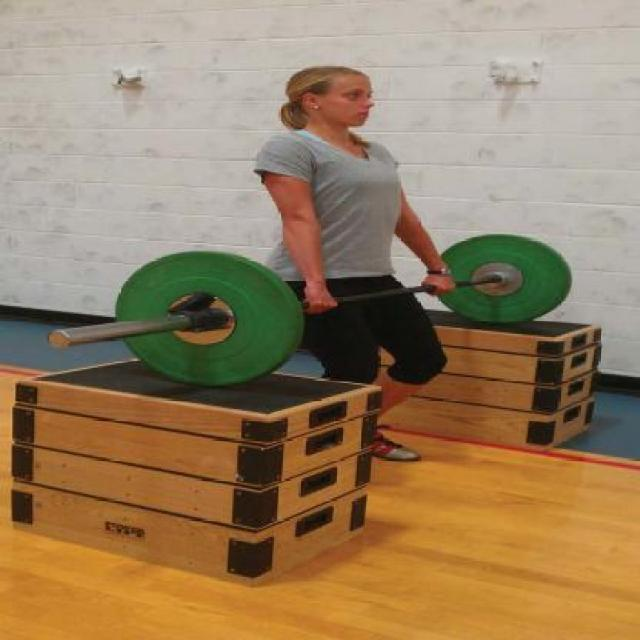Barbell: (40, 326, 77, 354)
